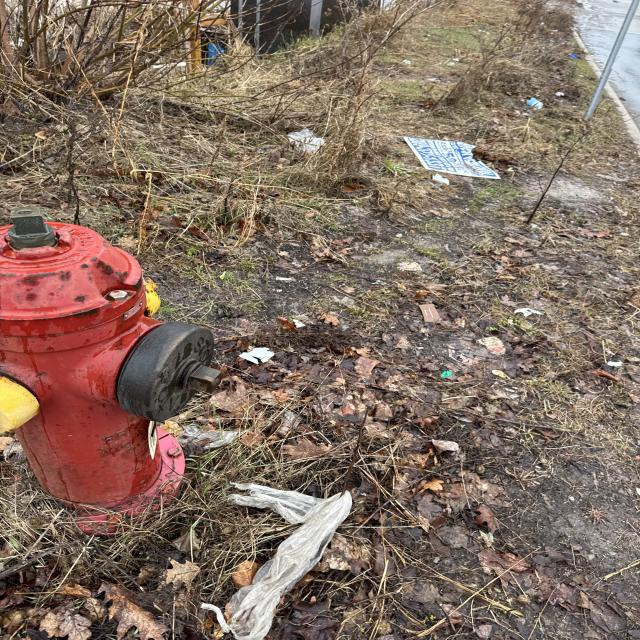Fire hydrant: (1, 206, 225, 539)
